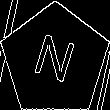N_S: (30, 31, 80, 91)
